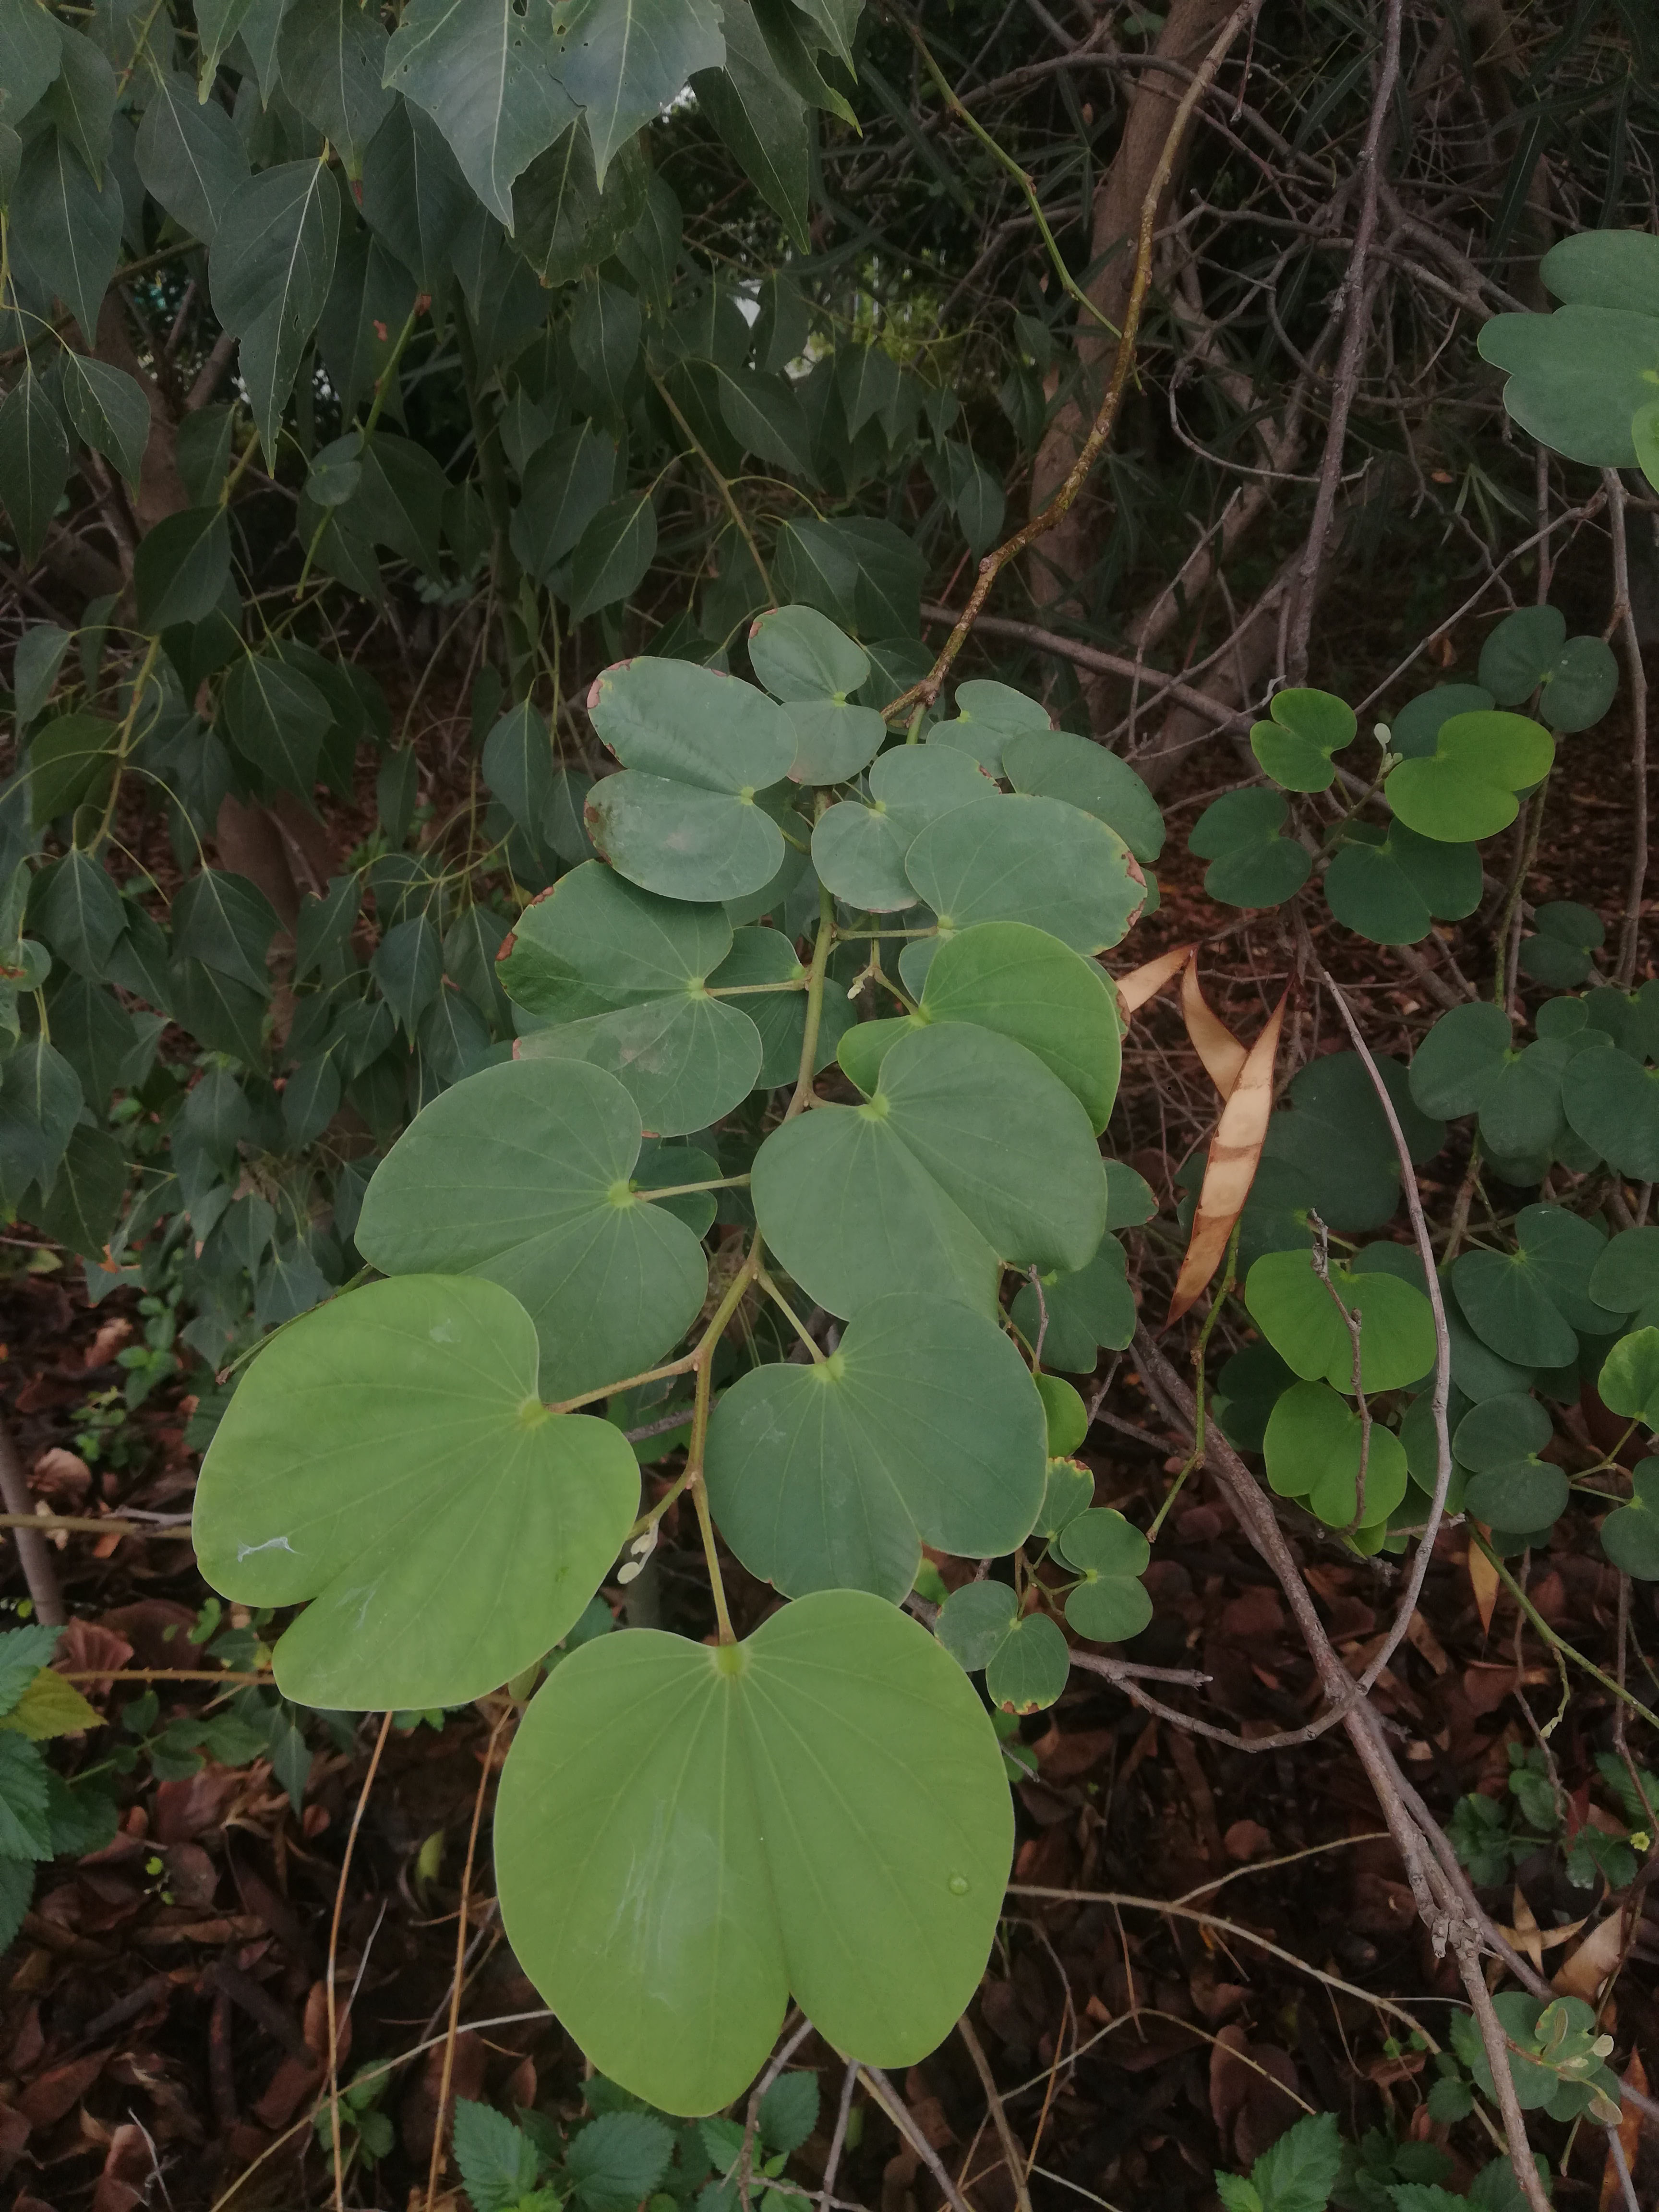healthy: (476, 1569, 1035, 2141), (185, 1277, 681, 1726), (349, 1049, 725, 1416), (699, 1273, 1073, 1622), (742, 1010, 1108, 1360), (1373, 700, 1563, 846), (1243, 686, 1361, 798), (1066, 1508, 1162, 1642)
nothealthy: (493, 834, 767, 1141), (580, 643, 789, 902), (925, 1580, 1073, 1717)
